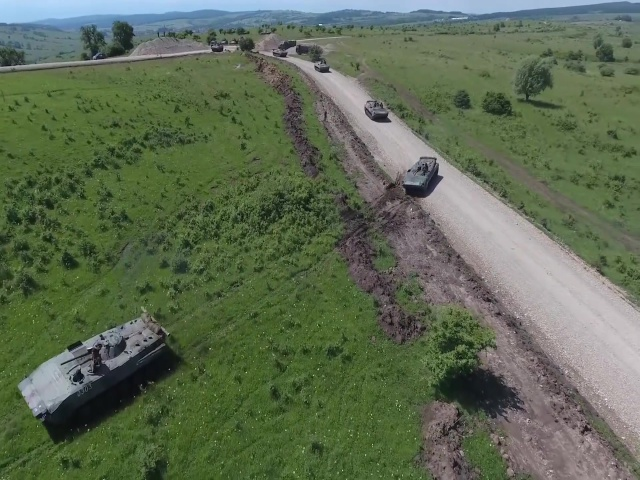vehicle: (17, 308, 168, 421), (403, 156, 438, 195), (364, 98, 390, 122), (312, 58, 330, 75), (272, 48, 289, 58)
